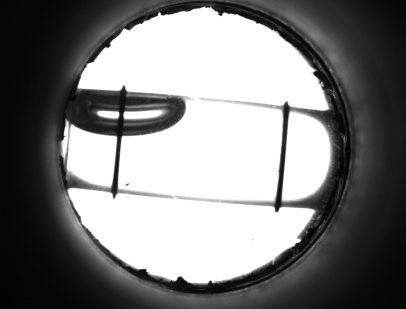line: (270, 121, 293, 194), (107, 143, 126, 181)
